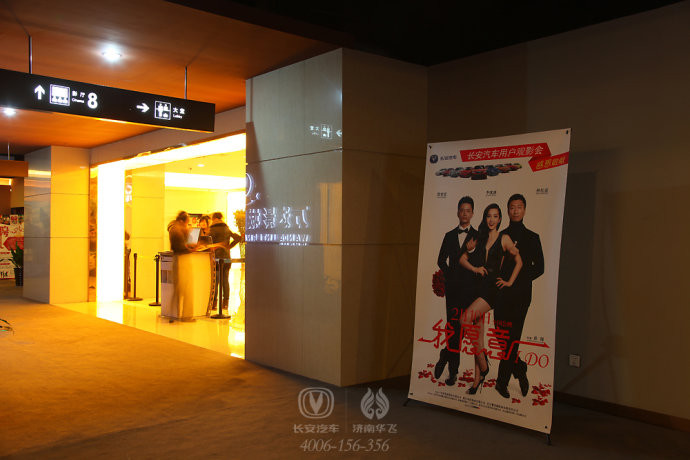bill: (405, 124, 572, 435)
